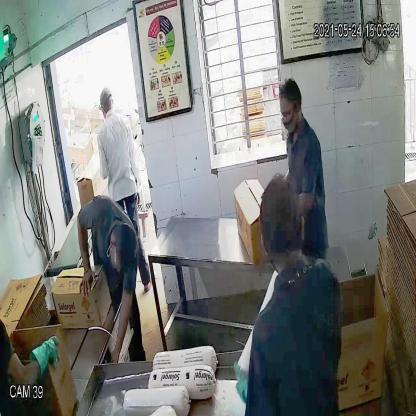goggles: (276, 102, 298, 124)
